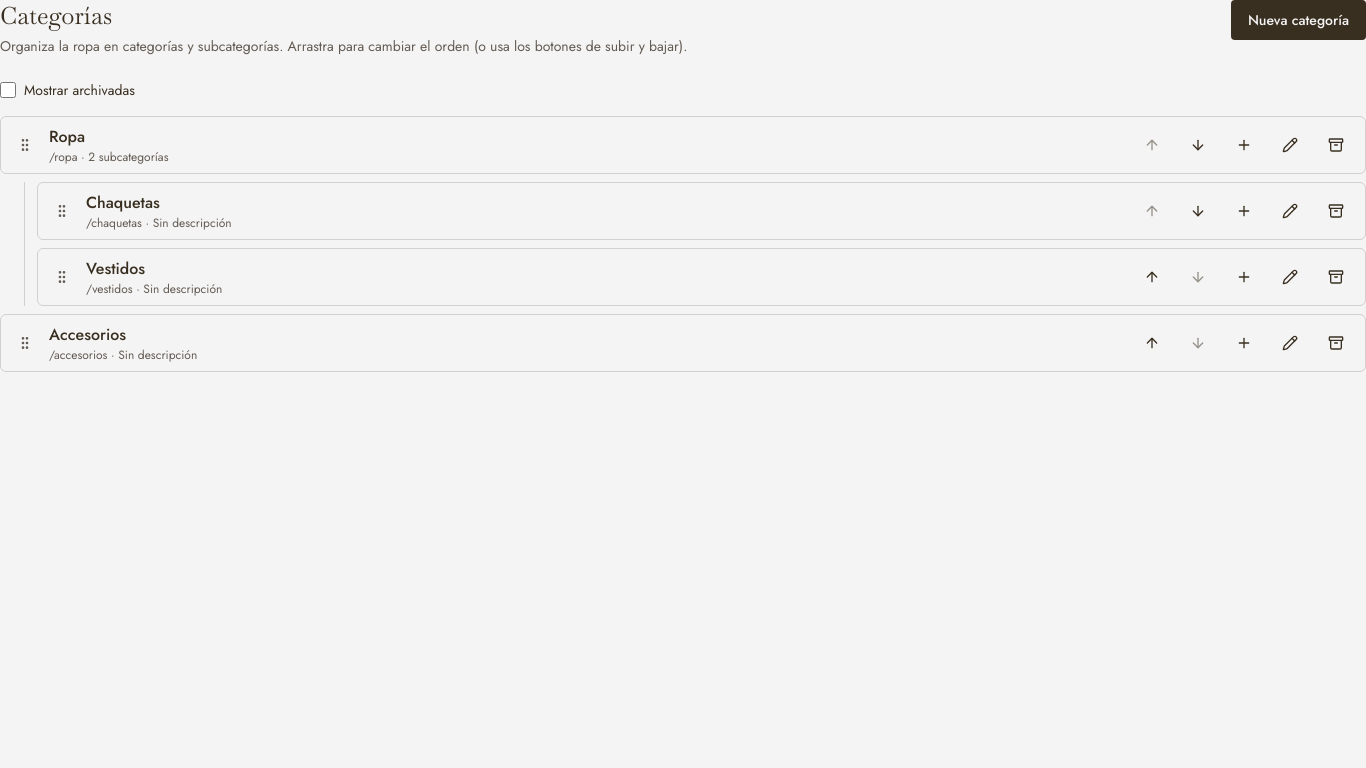
Test: CategoriesPage · crear › acentos y ñ en el nombre producen un slug válido
Expected: the text "Ropa" is shown, [49, 125, 85, 148]
Step 1. Click the button "Nueva categoría" → (1298,20), box [1231, 0, 1365, 40]
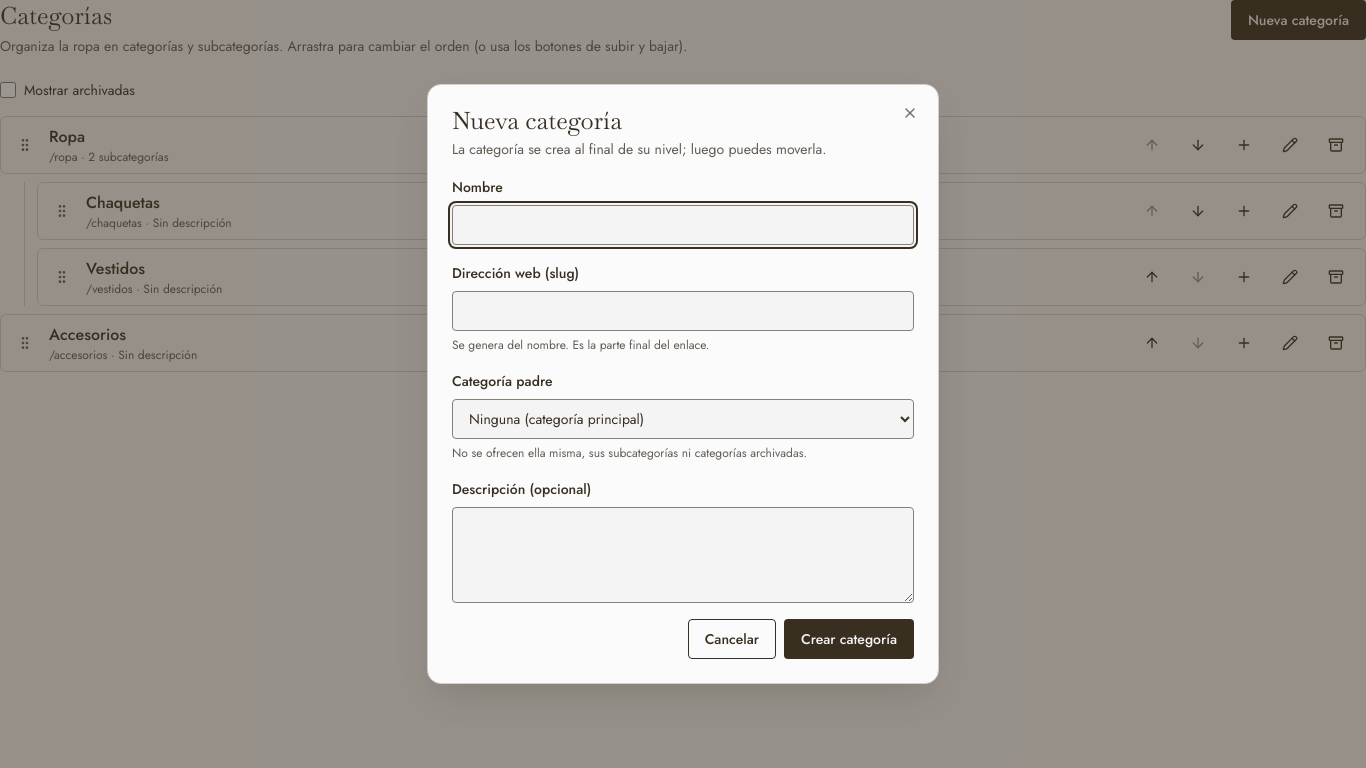
Step 2. Type "Ñandú — Edición 2027" into the field labelled "Nombre" → (683,225), box [452, 205, 914, 245]
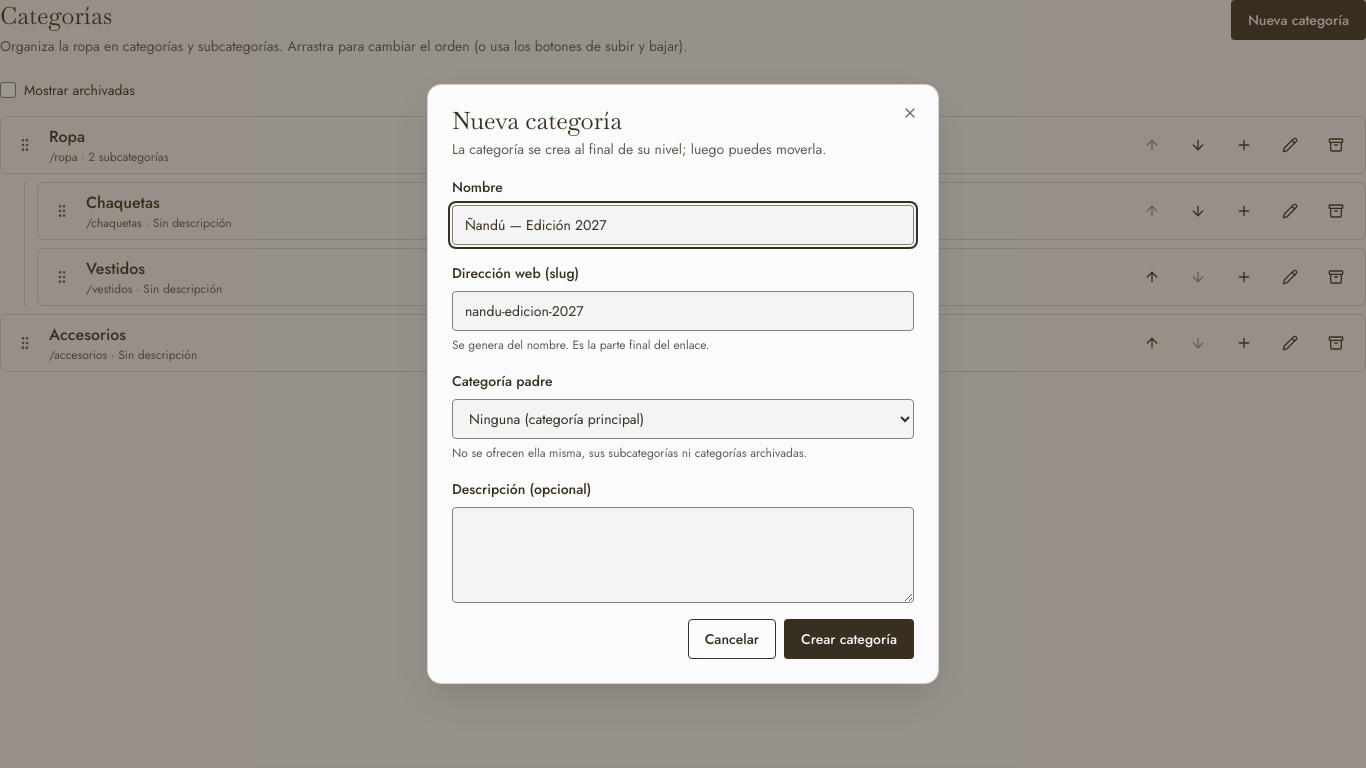
Result: the field labelled "Dirección web (slug)" holds "nandu-edicion-2027" at [452, 291, 914, 331]
